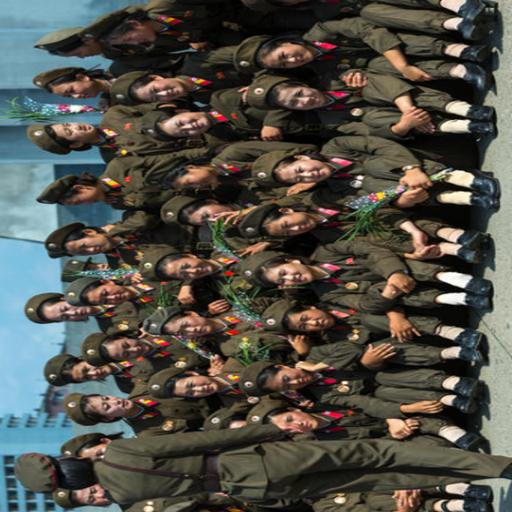north army: (29, 19, 512, 512)
